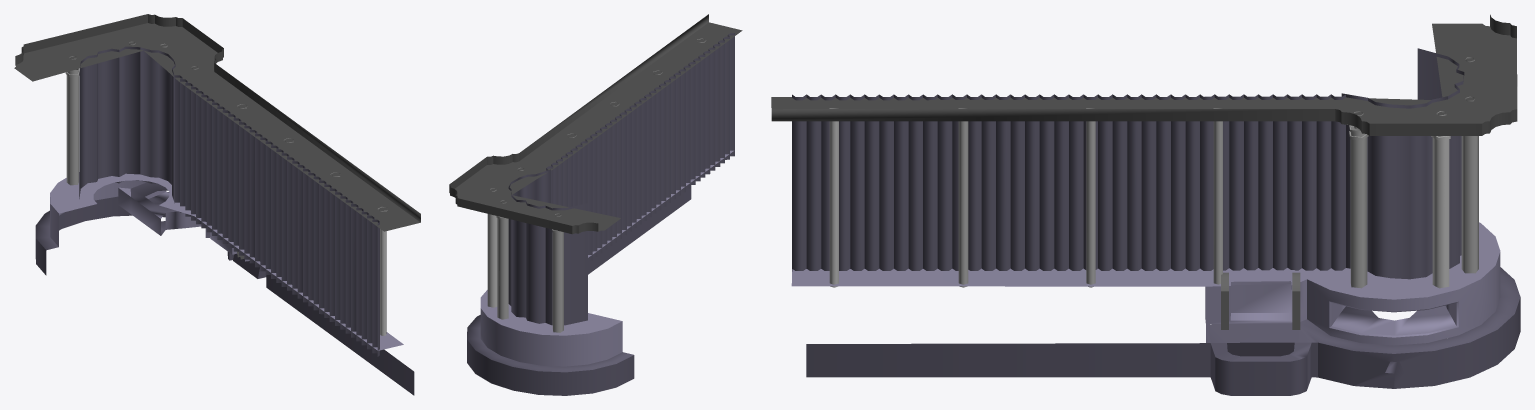
The model's file is ACT3_AnalyticalEngineBase_Fin.fbx.
3 views of the same model, side by side, from view 1: azimuth 30°, elevation 25°; view 2: azimuth 150°, elevation 25°; view 3: azimuth 270°, elevation 25° (orthographic). The views are drawn at different scales.
Visible parts, largest first — view 1: Engine_BaseInnerCils, Engine_Top, Engine_FrontInnerCils, Engine_BaseBalkonMid, Engine_BaseBalkonFoot, pillar_large4, pillar_small13; view 2: Engine_BaseInnerCils, Engine_Top, Engine_FrontInnerCils, Engine_BaseBalkonFoot, Engine_BaseBalkonMid, pillar_large3, pillar_large4, pillar_large2; view 3: Engine_BaseInnerCils, Engine_BaseBalkonFoot, Engine_Top, Engine_BaseBalkonMid, Engine_FrontInnerCils, pillar_large1, pillar_large2, pillar_large3, pillar_small12, pillar_small13, pillar_small11, pillar_small10 (+1 smaller).
Part boxes in pixels (box(x1,y1,x2,y2)): Engine_BaseInnerCils: box(174, 75, 379, 356); Engine_Top: box(14, 14, 420, 231); Engine_FrontInnerCils: box(79, 46, 175, 203); Engine_BaseBalkonMid: box(50, 172, 403, 350); Engine_BaseBalkonFoot: box(35, 192, 414, 395); pillar_large4: box(65, 56, 79, 185); pillar_small13: box(378, 207, 387, 335); Engine_BaseInnerCils: box(546, 33, 734, 260); Engine_Top: box(449, 14, 742, 234); Engine_FrontInnerCils: box(508, 169, 587, 325); Engine_BaseBalkonFoot: box(467, 185, 691, 395); Engine_BaseBalkonMid: box(480, 150, 733, 366); pillar_large3: box(496, 200, 508, 319); pillar_large4: box(552, 213, 563, 332); pillar_large2: box(487, 188, 497, 307); Engine_BaseInnerCils: box(792, 94, 1345, 271); Engine_BaseBalkonFoot: box(806, 267, 1520, 395); Engine_Top: box(771, 14, 1517, 135); Engine_BaseBalkonMid: box(791, 222, 1500, 345); Engine_FrontInnerCils: box(1341, 48, 1464, 279); pillar_large1: box(1347, 111, 1368, 288); pillar_large2: box(1431, 111, 1450, 288); pillar_large3: box(1461, 96, 1478, 273); pillar_small12: box(958, 108, 968, 287); pillar_small13: box(829, 108, 838, 287); pillar_small11: box(1086, 108, 1095, 287); pillar_small10: box(1213, 108, 1222, 284).
Size of the model in its own units: 7.95 by 8.1 by 20.83.
